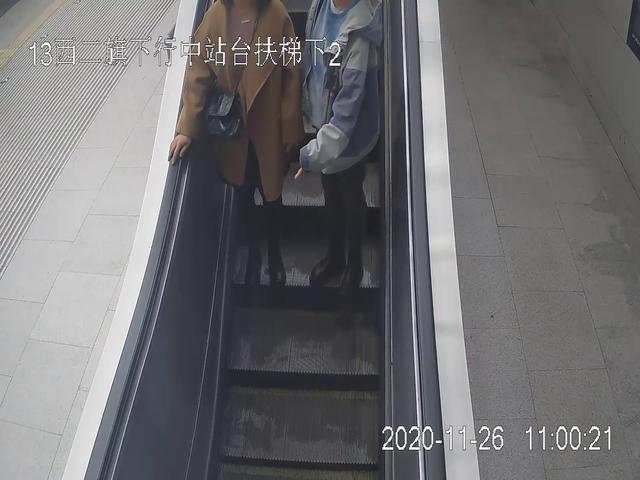person: (170, 1, 299, 290), (295, 1, 381, 290)
